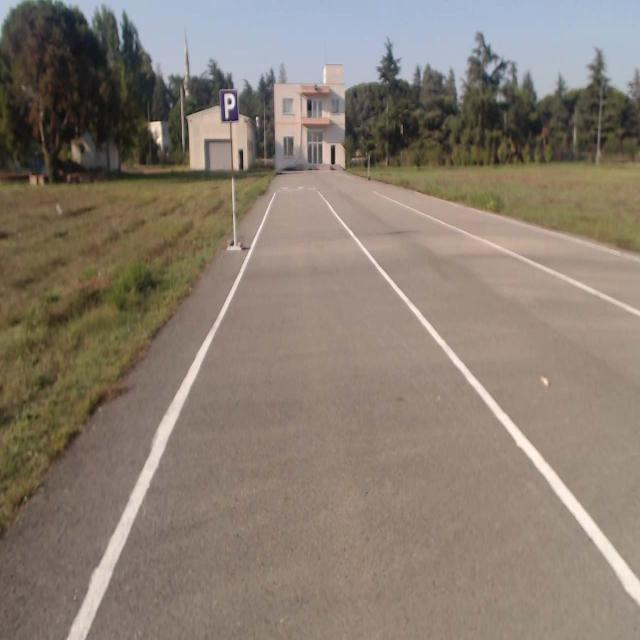park: (222, 89, 238, 123)
